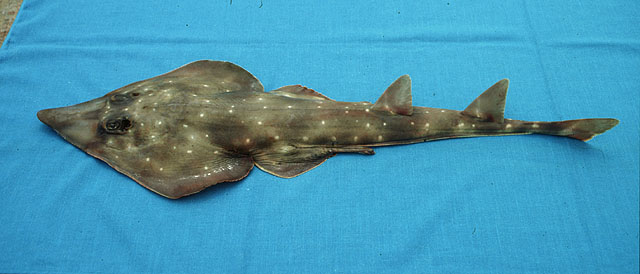shark: (24, 36, 628, 215)
